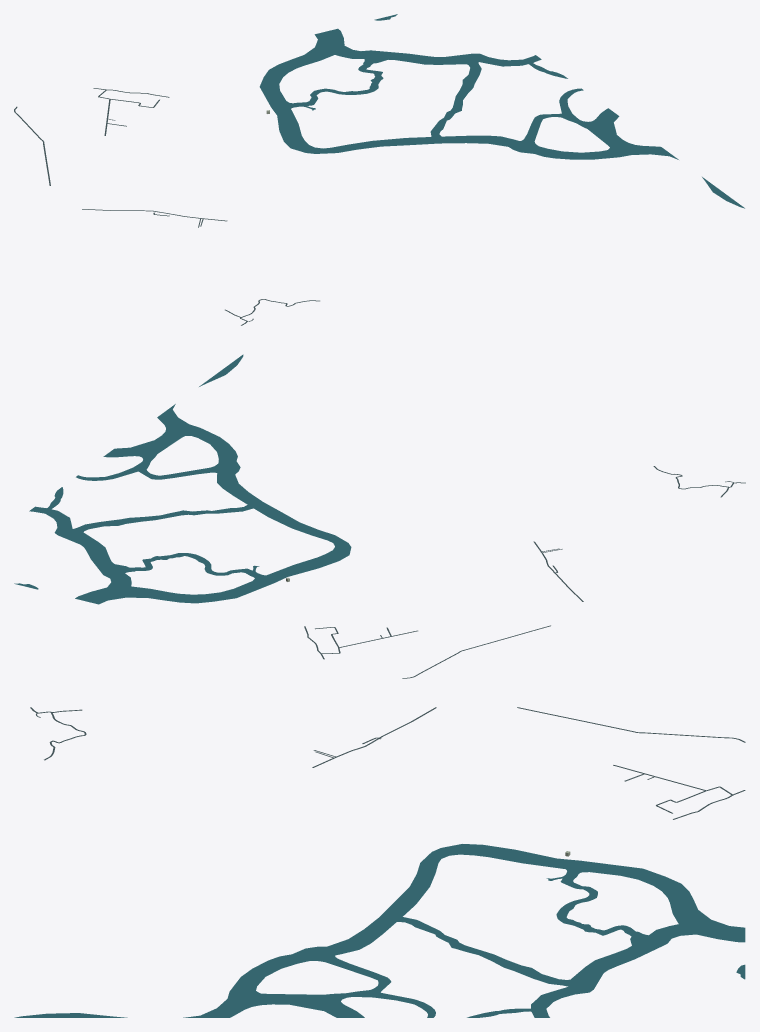
The picture shows the model from 3 angles, top to bottom: view 1: azimuth 30°, elevation 25°; view 2: azimuth 150°, elevation 25°; view 3: azimuth 270°, elevation 25°; orthographic projection. The views are drawn at different scales.
Parts seen in each view (by area): view 1: water, street; view 2: water, street; view 3: water, street.
Boxes of the visible parts, <box> form: water: <box>259,14,744,208</box>; street: <box>14,88,319,325</box>; water: <box>14,354,351,604</box>; street: <box>304,466,745,678</box>; water: <box>14,844,745,1017</box>; street: <box>30,707,745,819</box>.
Bounding box in the file's own units: 2002 × 10.7 × 1994.
